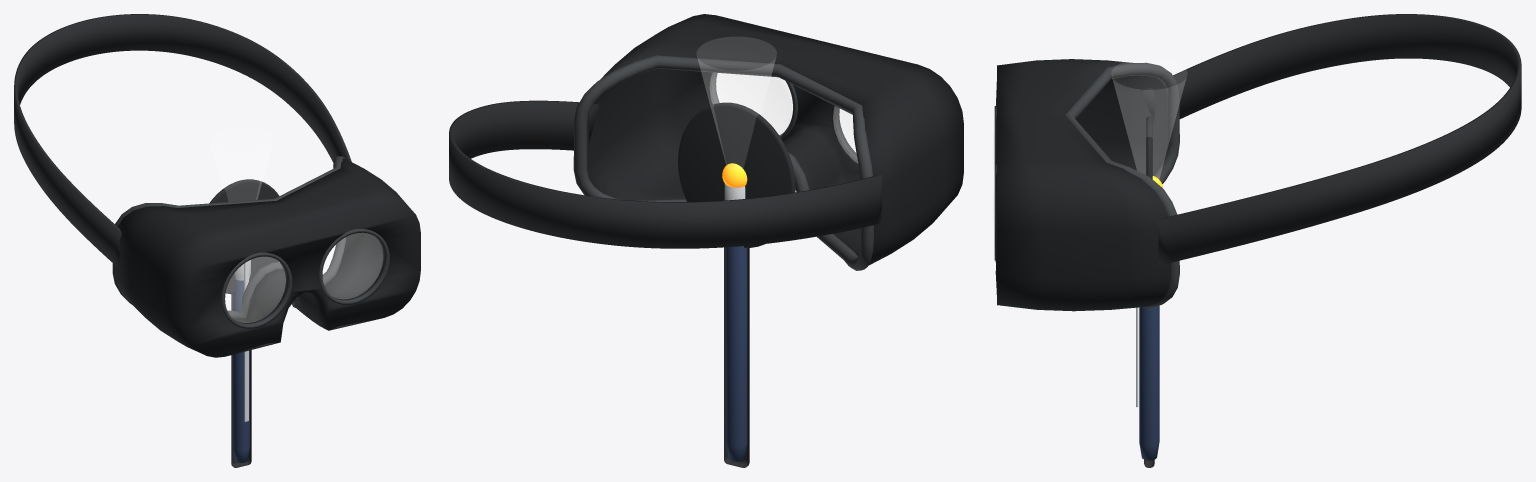
Rendered from eye-exam-props-3oh7Bu2B.glb.
The picture shows the model from 3 angles, left to right: view 1: azimuth 30°, elevation 25°; view 2: azimuth 150°, elevation 25°; view 3: azimuth 270°, elevation 25°; orthographic projection. The views are drawn at different scales.
Visible parts, largest first — view 1: GogglesHousing, Strap, LensR, LensL, Gasket, PenTargetBarrel, PenlightBeam, OccluderPaddle, LensRimR, LensRimL, OccluderHandle; view 2: GogglesHousing, Strap, OccluderPaddle, Gasket, PenTargetBarrel, LensL, PenlightBeam, OccluderHandle, LensR, LensRimL, LensRimR; view 3: GogglesHousing, Strap, Gasket, PenlightBeam, PenTargetBarrel.
Part boxes in pixels (x1,y1,x2,y2): GogglesHousing: (115,158,420,357); Strap: (14,14,351,268); LensR: (225,257,285,322); LensL: (323,233,382,298); Gasket: (112,156,345,318); PenTargetBarrel: (233,278,249,463); PenlightBeam: (211,145,271,199); OccluderPaddle: (209,179,279,294); LensRimR: (221,252,292,328); LensRimL: (319,229,389,304); OccluderHandle: (231,294,251,467); GogglesHousing: (587,14,963,265); Strap: (449,100,882,248); OccluderPaddle: (678,102,795,247); Gasket: (573,55,873,270); PenTargetBarrel: (726,246,747,462); LensL: (710,73,792,136); PenlightBeam: (698,58,775,164); OccluderHandle: (724,247,749,467); LensR: (833,106,857,163); LensRimL: (707,72,797,139); LensRimR: (831,105,858,166); GogglesHousing: (995,59,1170,311); Strap: (1140,14,1521,265); Gasket: (1065,62,1179,307); PenlightBeam: (1113,79,1185,178); PenTargetBarrel: (1139,305,1159,460).
Size of the model in its own units: 0.1756 by 0.2073 by 0.2495.
